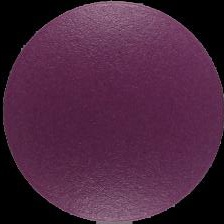16714-449: (0, 0, 224, 224)
